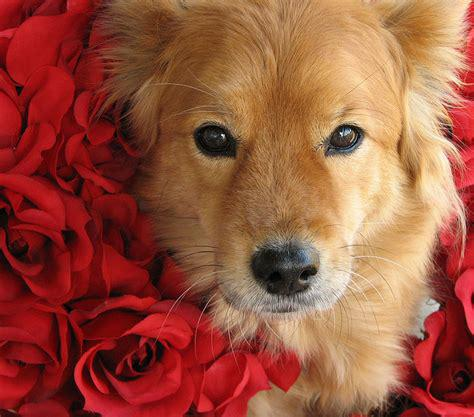dog: (109, 1, 465, 417)
